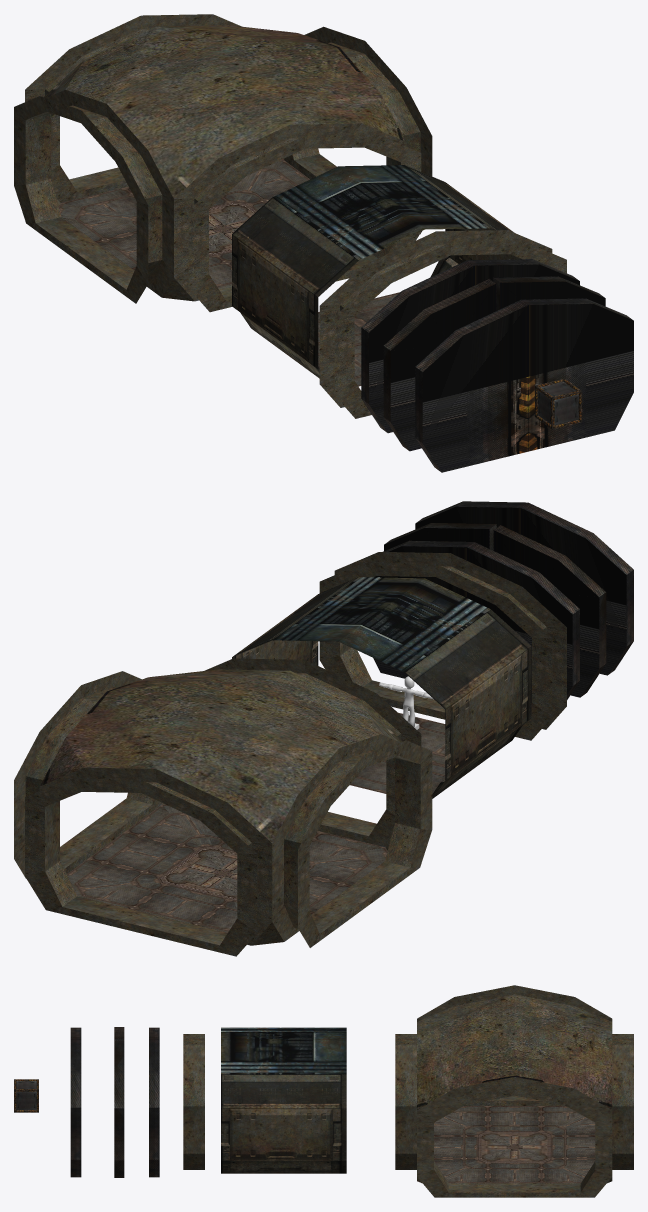
Rendered from Spaceship Assets.fbx.
The picture shows the model from 3 angles, top to bottom: view 1: azimuth 30°, elevation 25°; view 2: azimuth 150°, elevation 25°; view 3: azimuth 270°, elevation 25°; orthographic projection. The views are drawn at different scales.
Visible parts, largest first — view 1: Interseccion, Puerta Unida, Pasillo, Union, Puerta R, Box, Puerta Rota R1, Puerta L, Puerta Rota R8, Puerta Rota R2, Puerta Rota L1; view 2: Interseccion, Pasillo, Union, Puerta Unida, Puerta R, Puerta Rota R1, Puerta L, Puerta Rota R8, Puerta Rota R2, Puerta Rota L1, pj; view 3: Interseccion, Pasillo, Union, Puerta Unida, Puerta L, Box, Puerta Rota L5, Puerta Rota L1, Puerta Rota L3.
Boxes of the visible parts, x1,y1,x2,y2 form: Interseccion: (14,14,432,312); Puerta Unida: (415,298,633,472); Pasillo: (232,165,521,386); Union: (319,230,566,418); Puerta R: (361,260,474,433); Box: (535,378,582,429); Puerta Rota R1: (424,278,495,338); Puerta L: (467,259,579,285); Puerta Rota R8: (383,346,415,421); Puerta Rota R2: (384,309,446,350); Puerta Rota L1: (493,276,565,299); Interseccion: (14,658,432,956); Pasillo: (232,577,531,798); Union: (319,552,566,740); Puerta Unida: (415,501,633,675); Puerta R: (467,542,579,702); Puerta Rota R1: (494,525,565,578); Puerta L: (373,540,473,678); Puerta Rota R8: (580,592,606,668); Puerta Rota R2: (547,556,605,596); Puerta Rota L1: (425,523,495,541); pj: (379,676,433,729); Interseccion: (395,985,633,1197); Pasillo: (221,1027,346,1173); Union: (183,1034,204,1169); Puerta Unida: (70,1027,81,1177); Puerta L: (149,1040,159,1177); Box: (14,1079,38,1112); Puerta Rota L5: (114,1108,124,1160); Puerta Rota L1: (114,1040,124,1074); Puerta Rota L3: (114,1074,124,1108).
Size of the model in its own units: 3797 by 2084 by 9869.
